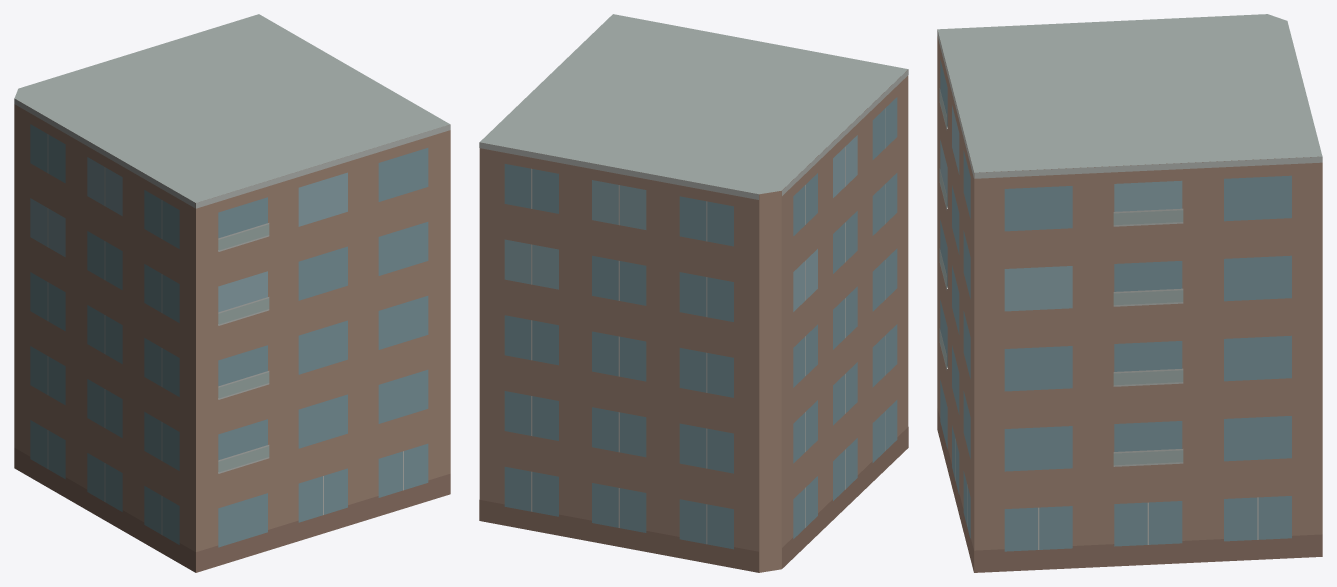
The model's file is survey-upis-32885349.glb.
3 views of the same model, side by side, from view 1: azimuth 30°, elevation 25°; view 2: azimuth 150°, elevation 25°; view 3: azimuth 270°, elevation 25° (orthographic). The views are drawn at different scales.
Visible parts, largest first — view 1: survey-upis-32885349.tmp; view 2: survey-upis-32885349.tmp; view 3: survey-upis-32885349.tmp.
Part boxes in pixels (bbox=[...]): survey-upis-32885349.tmp: bbox=[14, 14, 450, 572]; survey-upis-32885349.tmp: bbox=[479, 14, 908, 572]; survey-upis-32885349.tmp: bbox=[937, 14, 1322, 572].
Size of the model in its own units: 13.53 by 15.9 by 13.88.
